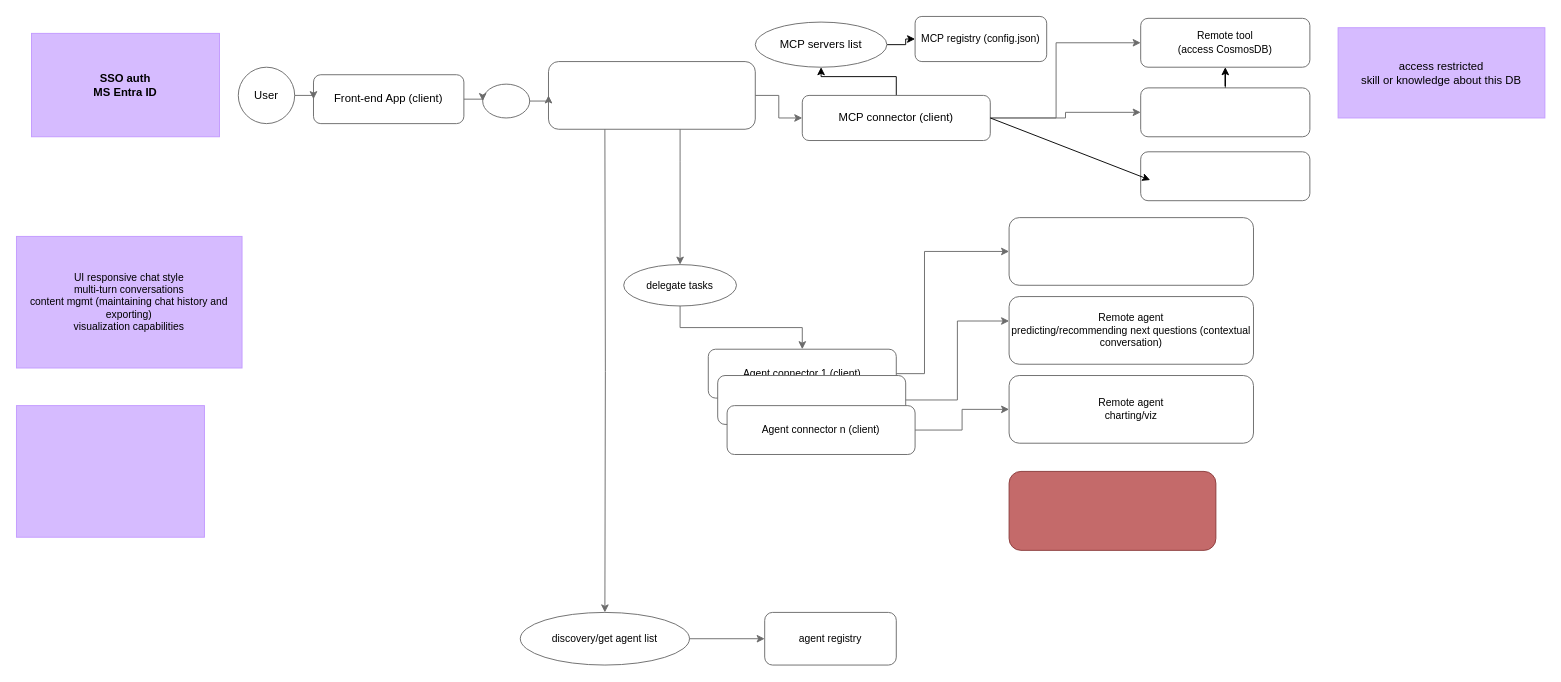
This 1561x682 diagram has some shape labels left out. The centre of each missing label's shape, as x and y in pixels:
A2A: the point at 506,100
Agent connector 2 (client): the point at 811,399
Host/Orchestrator agent (server): the point at 651,95
Models Host agent - OpenAI: the point at 110,471
Remote agent RAG to retrieve additional information/context.: the point at 1130,251
Remote tool (access semantic model): the point at 1225,112
Remote tool (access VisionWeb DB): the point at 1225,176
Safeguard agent guardrail on sensitive data and preventing hallucination: the point at 1112,510
